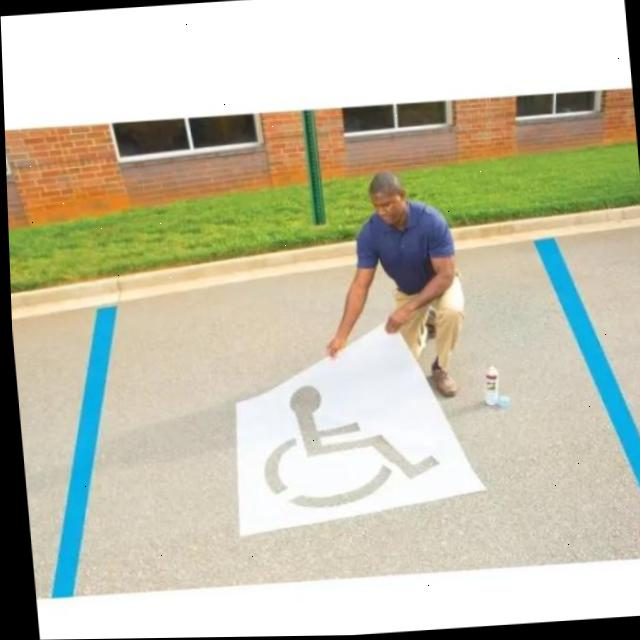symbol_of_access: (251, 372, 443, 524)
